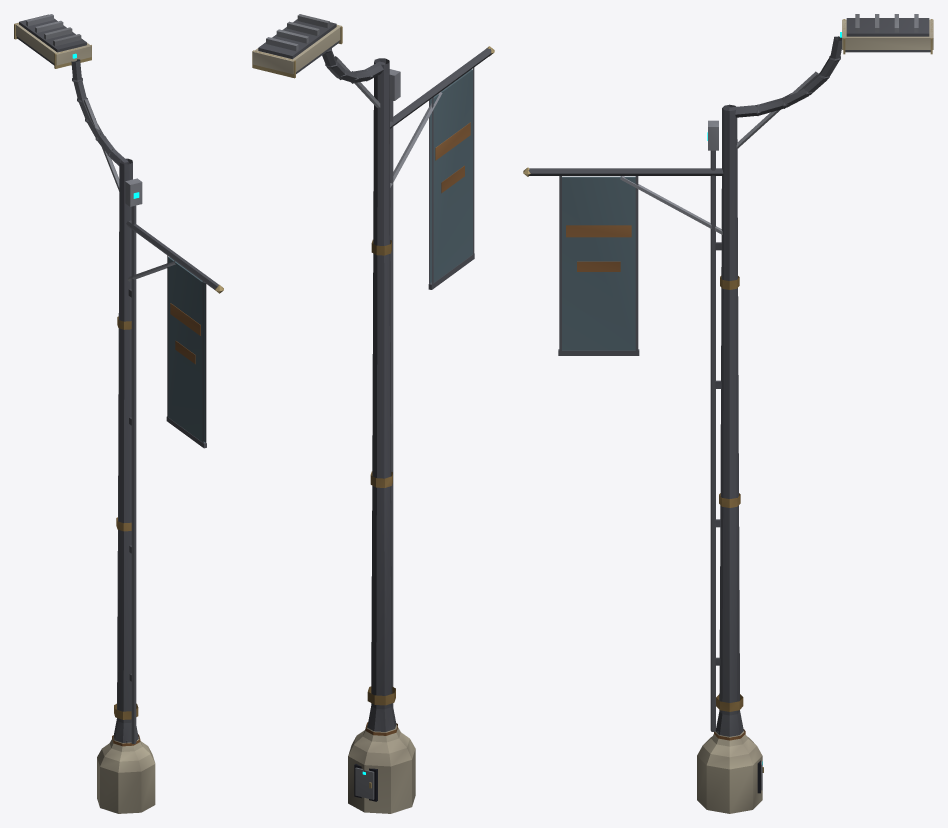
Rendered from street_lamp.glb.
3 views of the same model, side by side, from view 1: azimuth 30°, elevation 25°; view 2: azimuth 150°, elevation 25°; view 3: azimuth 270°, elevation 25° (orthographic). The views are drawn at different scales.
Parts seen in each view (by area): view 1: street_lamp; view 2: street_lamp; view 3: street_lamp.
Part boxes in pixels (x1=…): street_lamp: x1=14, y1=14, x2=223, y2=813; street_lamp: x1=252, y1=14, x2=494, y2=813; street_lamp: x1=523, y1=14, x2=933, y2=813.
Size of the model in its own units: 0.6 by 7.88 by 3.76.
